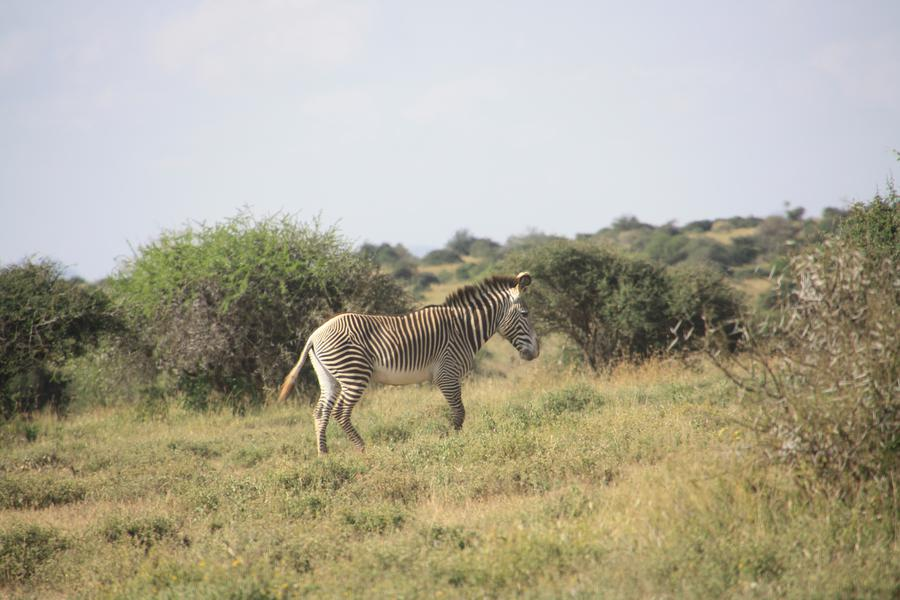zebra_grevys: (312, 314, 464, 372)
